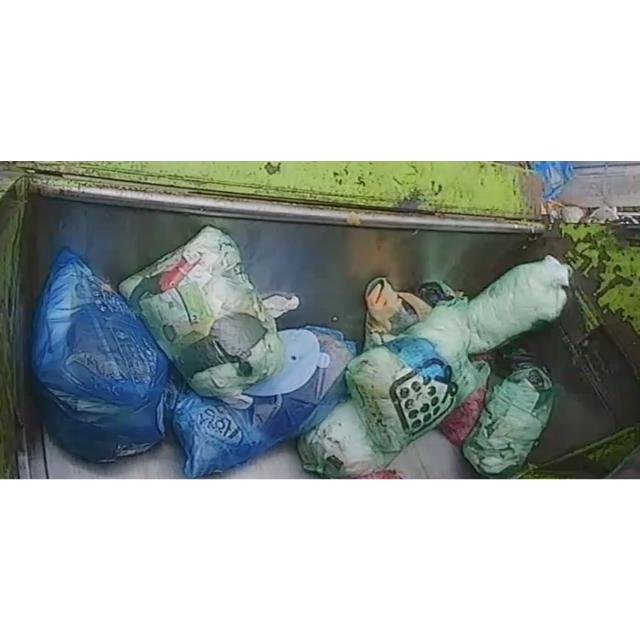general_trashbag: (119, 225, 299, 398), (346, 298, 489, 452), (462, 365, 554, 476), (468, 255, 569, 352), (298, 399, 396, 478)
other_trashbag: (32, 248, 169, 461), (168, 325, 355, 476)
